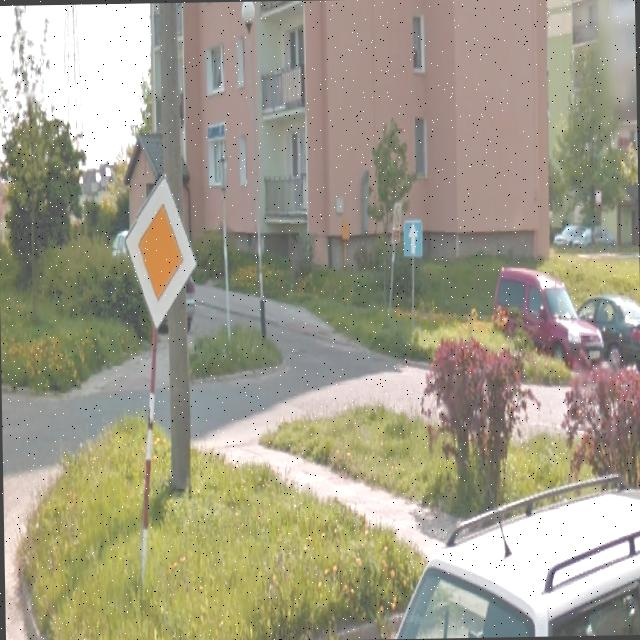Droga z pierwszenstwem: (122, 165, 196, 331)
